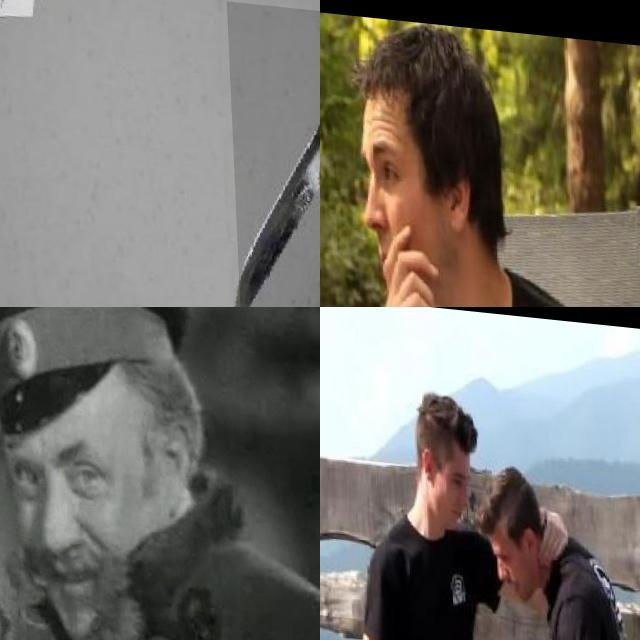-: (226, 0, 320, 307)
gun-knife-thesis - v11 Yolov5 augmented: (0, 458, 135, 640)
